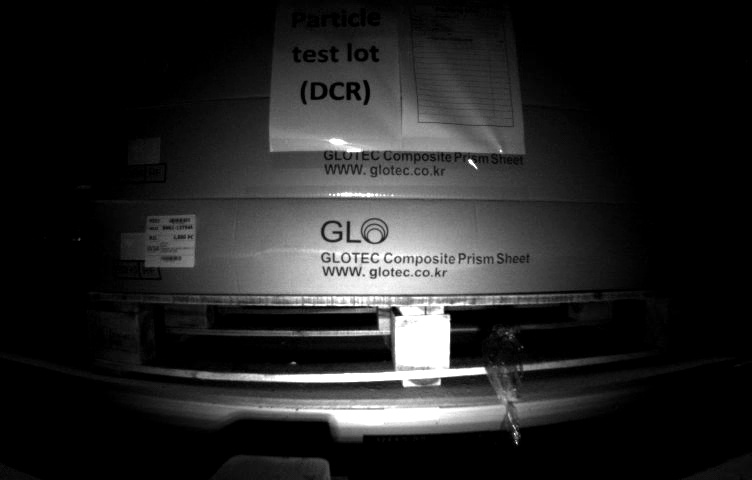True Barcode: (145, 214, 198, 270)
